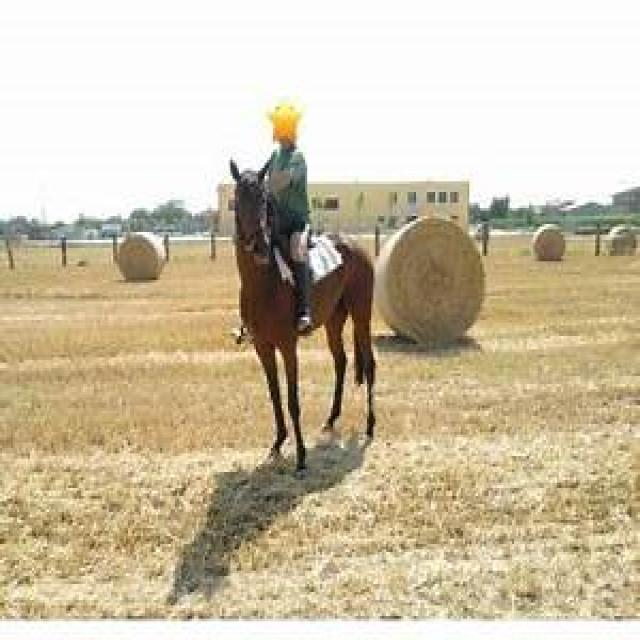horse: (233, 176, 373, 469)
